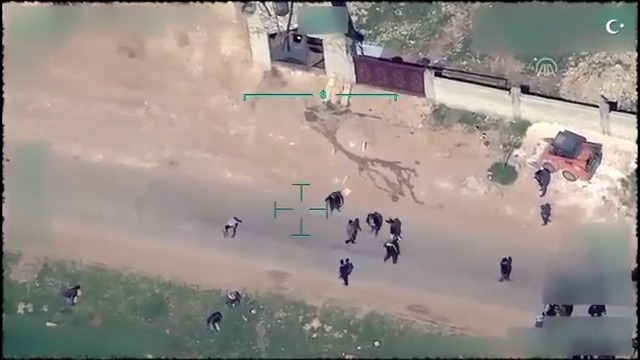insan: (220, 213, 247, 243), (335, 254, 353, 285)
